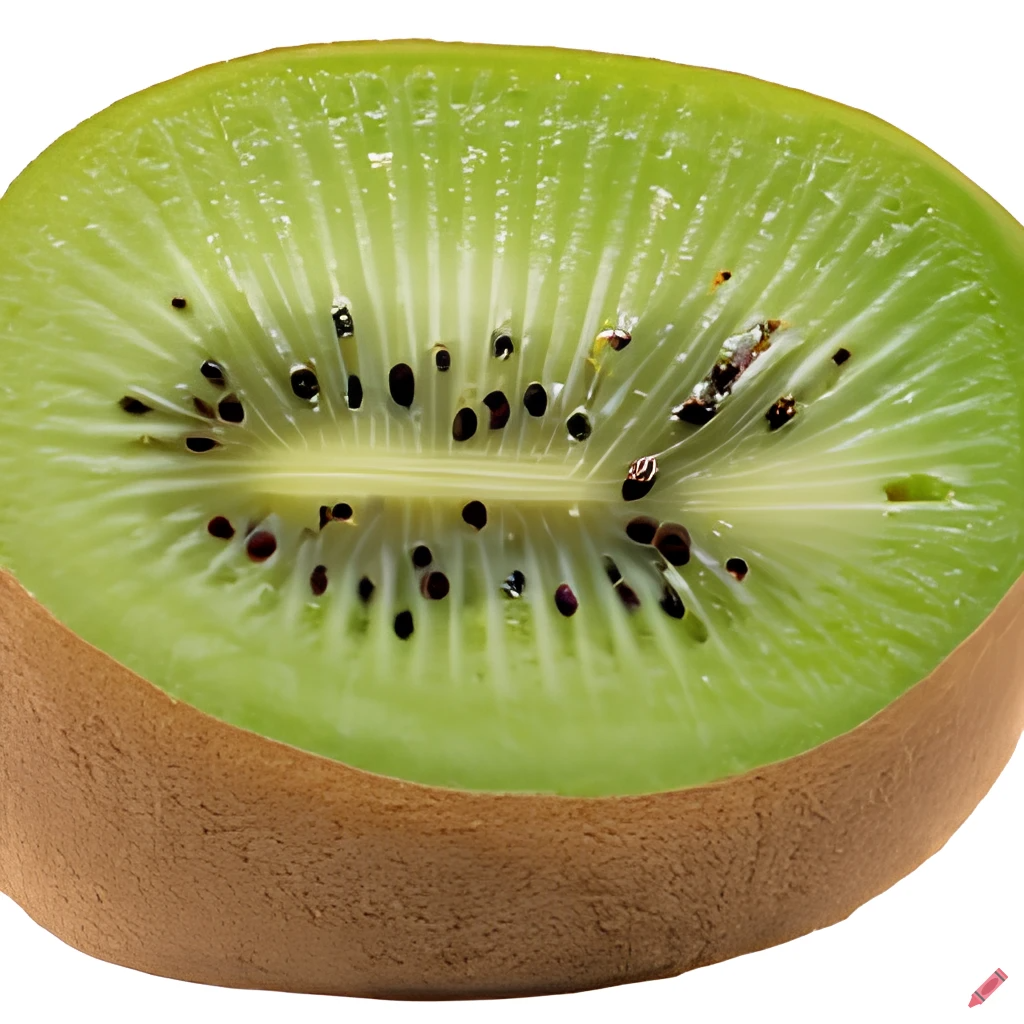Kiwi: (0, 27, 1004, 976)
